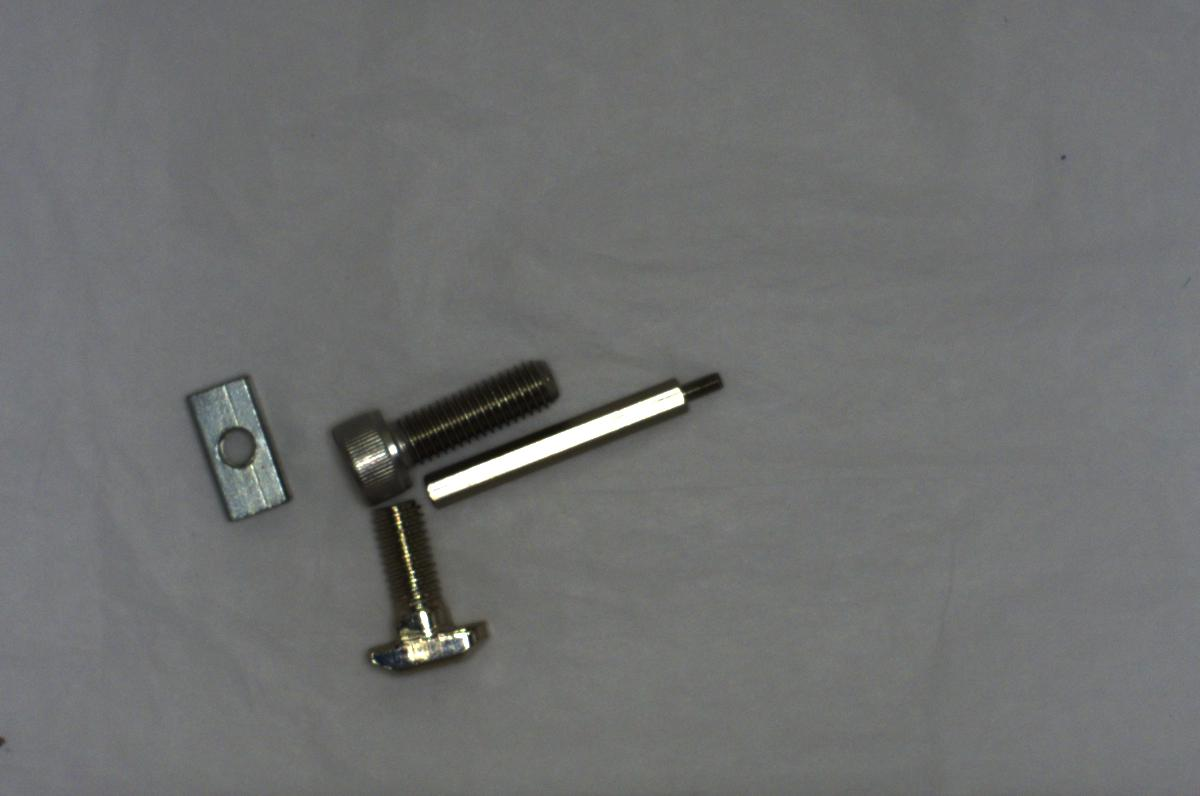Hexagon screw: (332, 354, 570, 505)
Hexagonal steel column: (422, 366, 733, 509)
Rectangular nut: (175, 368, 293, 521)
T-shaped screw: (348, 495, 495, 676)
